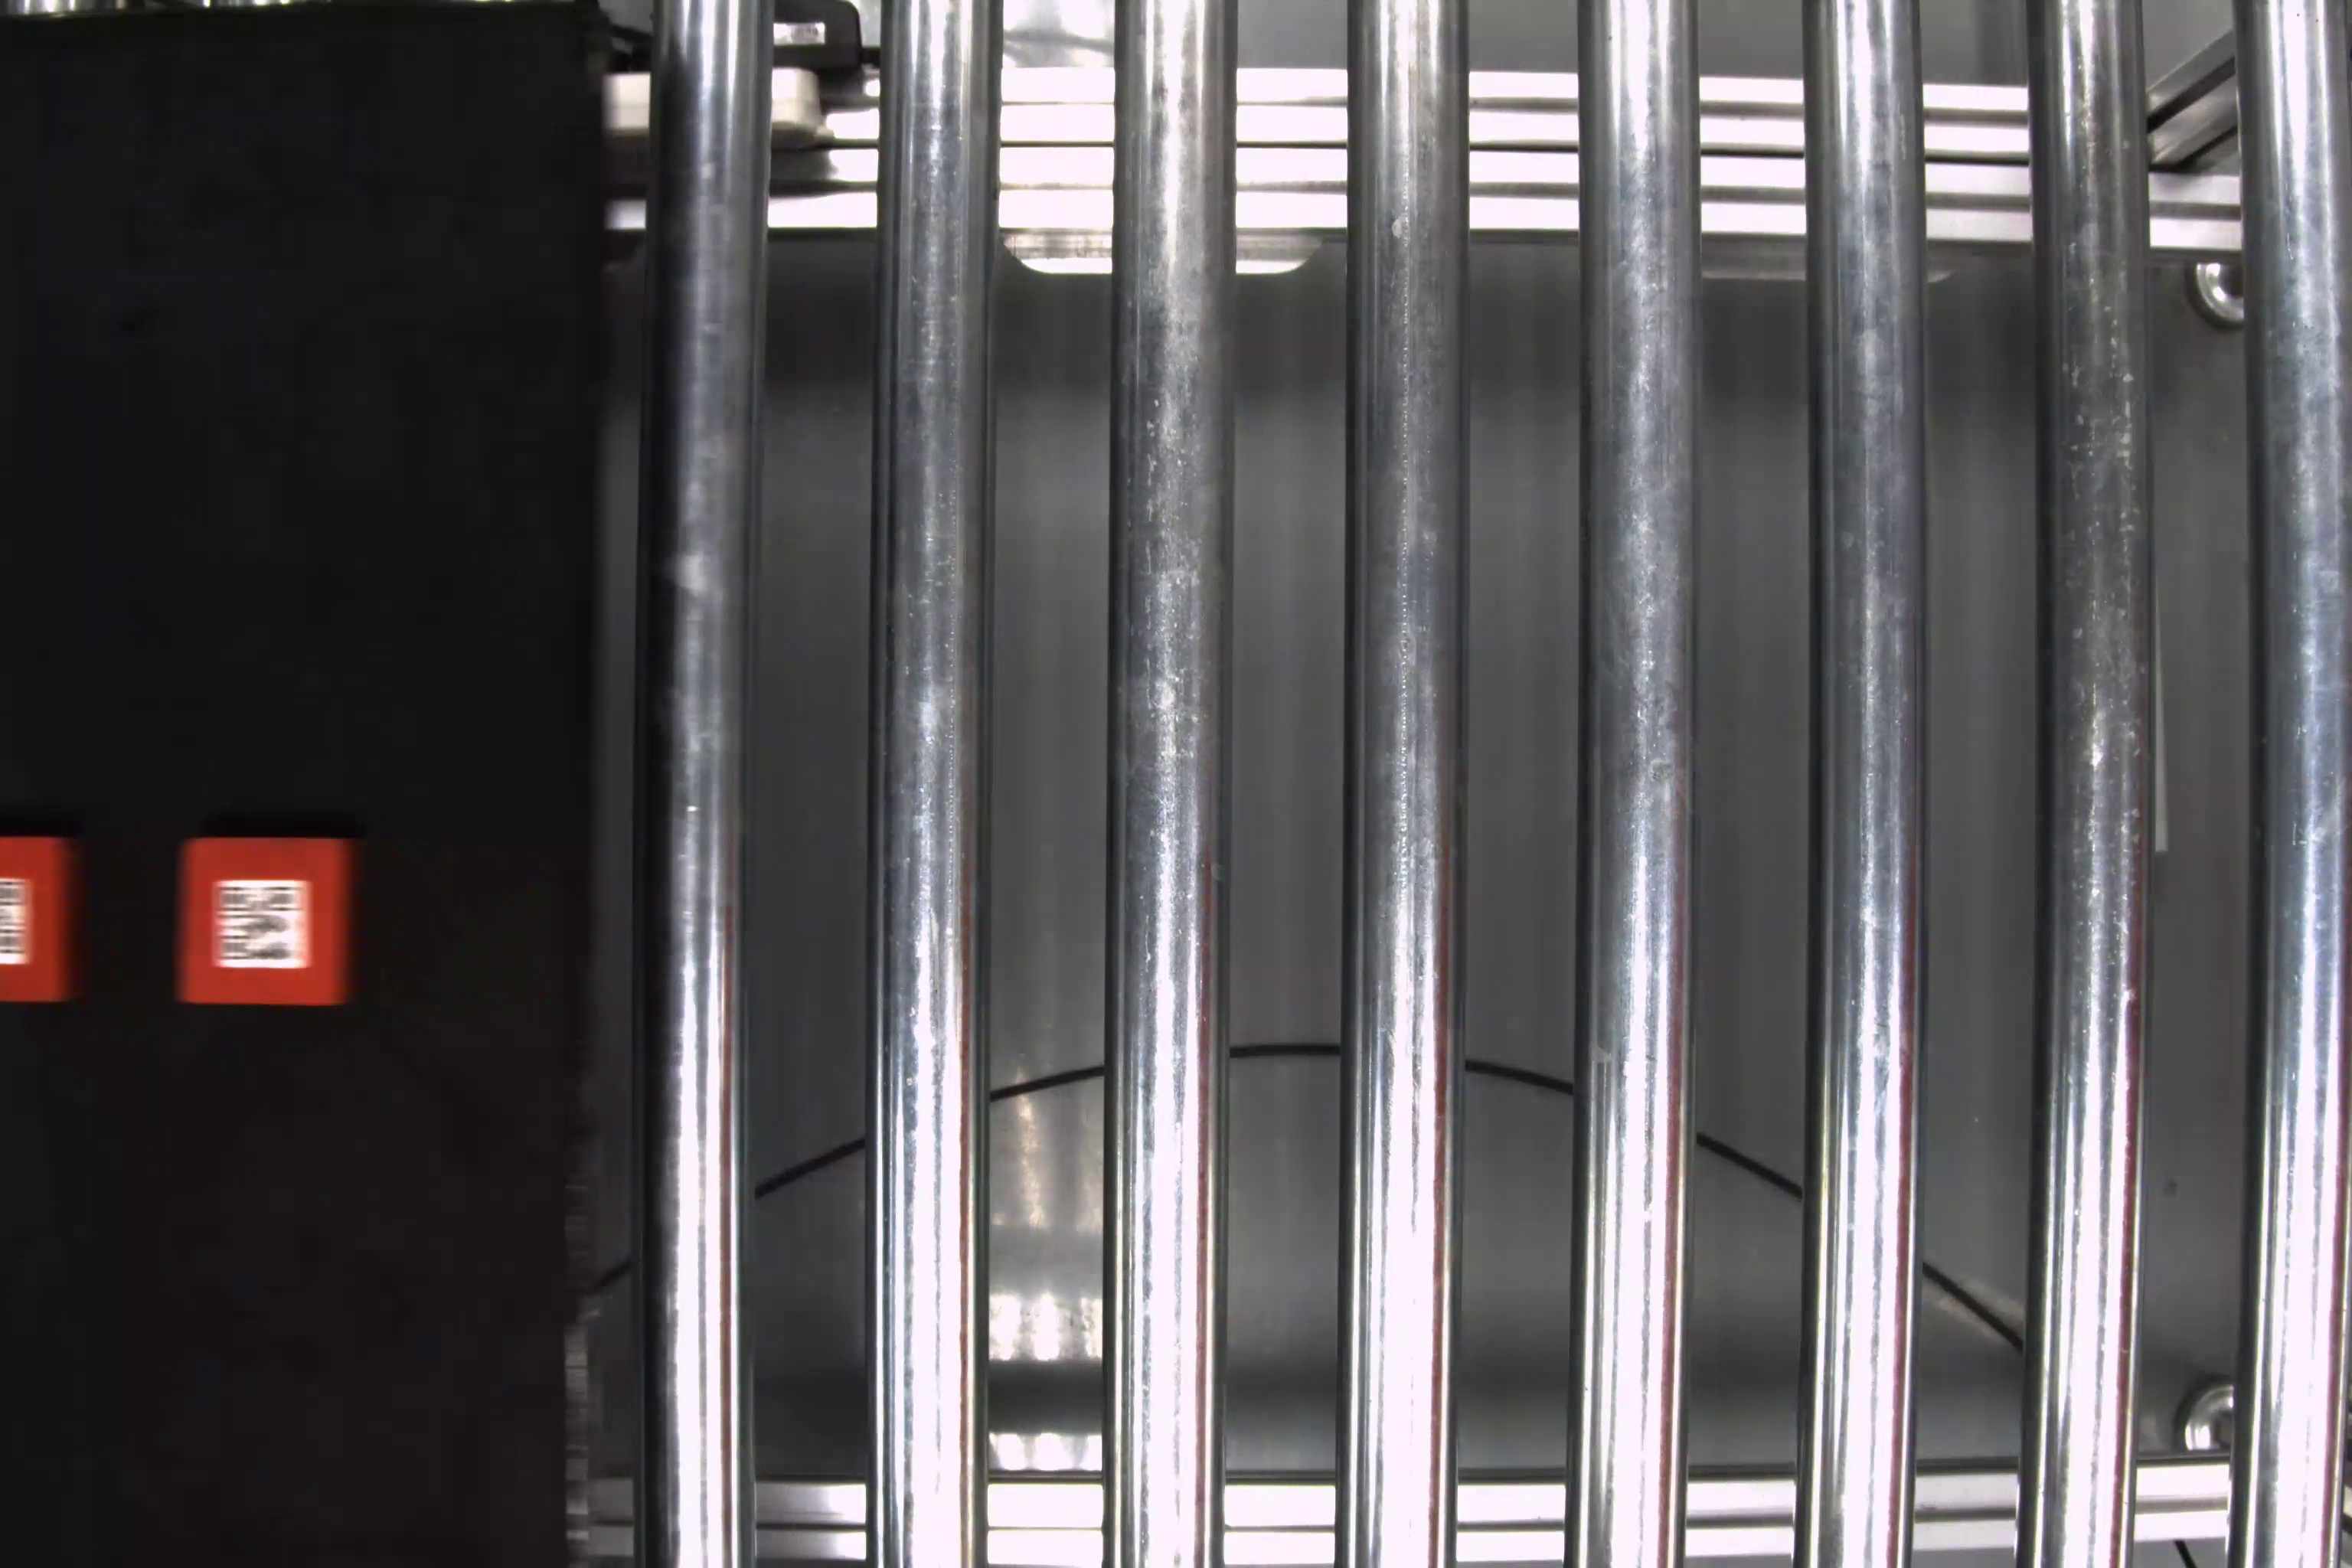wood: (177, 842, 369, 1011), (3, 826, 91, 1004)
